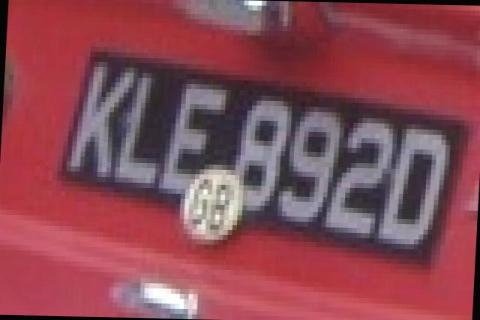LicensePlate: (55, 47, 471, 261)
